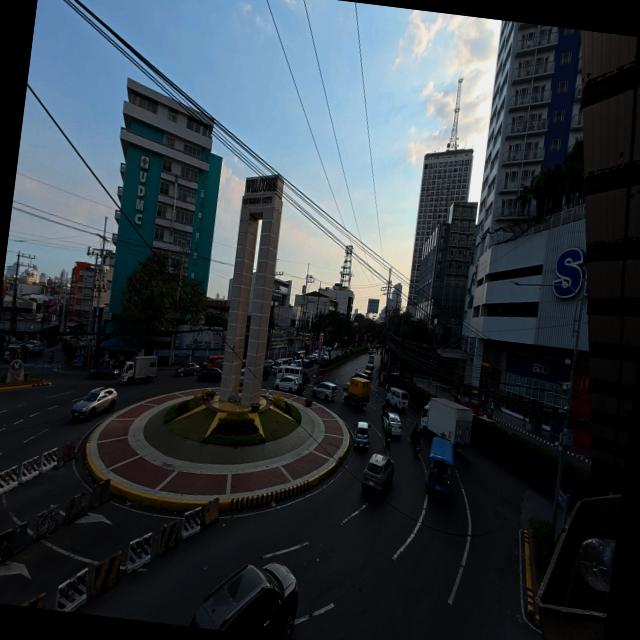Jeepneys: (426, 434, 454, 502)
car: (189, 563, 298, 638), (72, 387, 117, 420), (362, 454, 394, 495), (460, 400, 491, 418), (312, 382, 337, 401), (89, 364, 120, 379), (353, 422, 370, 448), (383, 412, 401, 436), (275, 375, 299, 393), (198, 368, 222, 383), (176, 363, 200, 377), (4, 344, 21, 362), (263, 362, 272, 380), (482, 417, 498, 427), (301, 371, 310, 385), (302, 356, 312, 367), (311, 351, 319, 363), (240, 368, 246, 384), (264, 359, 273, 369), (291, 358, 302, 366), (369, 354, 374, 363), (333, 343, 338, 350), (369, 348, 372, 354)
motorcycle: (382, 400, 389, 416), (452, 392, 462, 403), (413, 441, 420, 456), (385, 435, 391, 448), (296, 386, 303, 397), (48, 354, 53, 364)
trucks: (421, 398, 473, 449), (121, 356, 158, 384), (344, 377, 371, 408)
vans: (388, 388, 409, 412), (277, 364, 302, 381), (272, 358, 290, 373)
